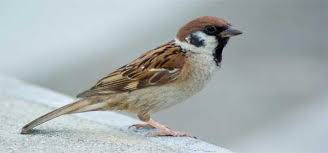hsparrow: (15, 14, 263, 142)
